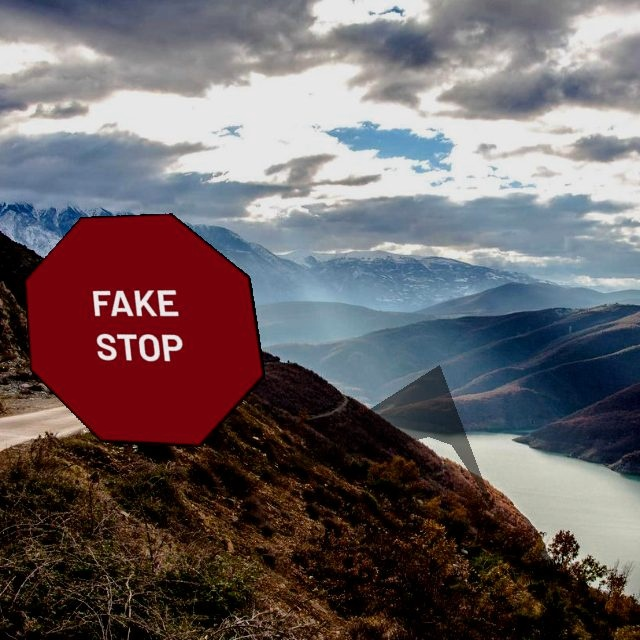FAKE_STOP: (24, 213, 265, 447)
